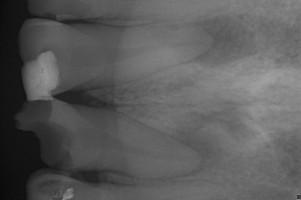Furcation Involvement: (192, 16, 259, 70), (178, 126, 226, 176)
